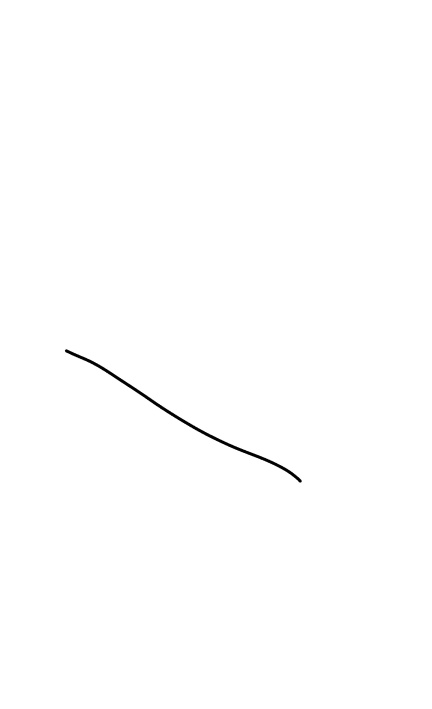Line: (58, 343, 311, 488)
